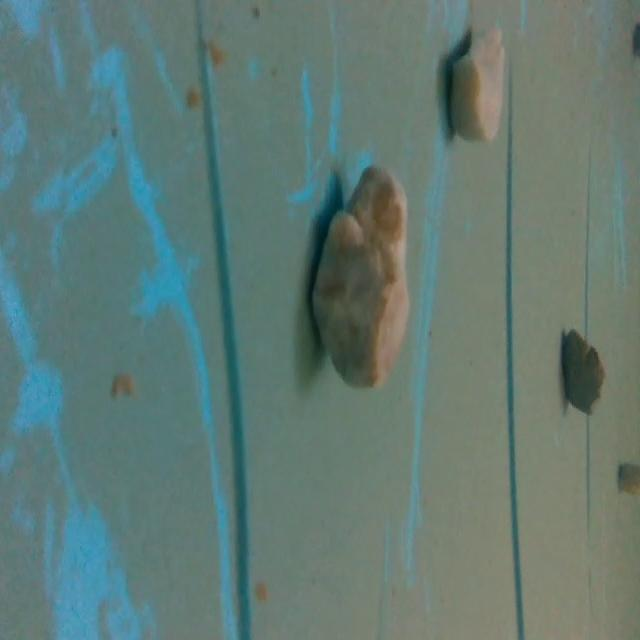rock: (308, 157, 416, 399), (444, 20, 513, 142), (560, 320, 609, 417)
